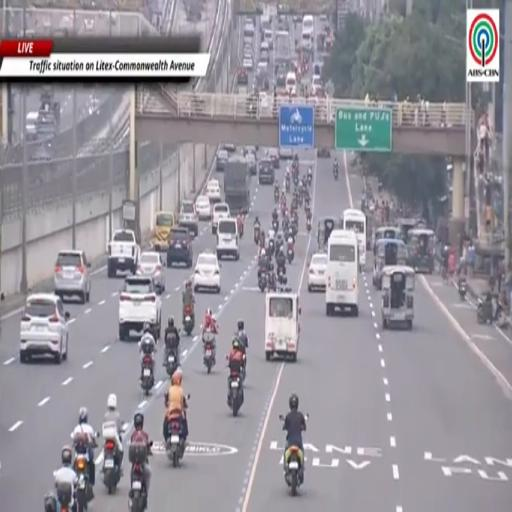bus: (325, 230, 359, 315), (342, 210, 366, 271)
car: (20, 294, 69, 363), (119, 276, 161, 341), (54, 250, 91, 303), (136, 251, 165, 294), (193, 252, 220, 293), (167, 228, 193, 267), (217, 218, 239, 260), (308, 253, 328, 292), (178, 200, 198, 237), (212, 203, 230, 234), (258, 159, 275, 184), (195, 196, 211, 220), (206, 180, 221, 203), (216, 149, 228, 171), (311, 75, 323, 95), (246, 153, 257, 174), (268, 149, 279, 168), (237, 68, 248, 85), (256, 61, 268, 76), (242, 56, 253, 72), (84, 16, 94, 33), (244, 21, 254, 38), (279, 148, 293, 159), (243, 146, 257, 156), (222, 143, 236, 153), (243, 43, 254, 55), (317, 148, 330, 157), (259, 52, 269, 63), (260, 41, 269, 53), (243, 36, 253, 45), (243, 53, 254, 60), (320, 14, 328, 22)
jeepney: (265, 288, 300, 361), (382, 266, 414, 329), (373, 238, 407, 289), (408, 229, 435, 274), (151, 212, 175, 251), (373, 227, 401, 255), (318, 217, 336, 251), (399, 218, 417, 242)
motorcycle: (74, 454, 93, 511), (102, 439, 121, 493), (284, 444, 303, 495), (166, 419, 185, 467), (129, 461, 147, 511), (44, 483, 76, 511), (228, 374, 244, 417), (141, 355, 154, 396), (203, 332, 215, 374), (477, 298, 492, 324), (165, 349, 178, 377), (183, 304, 194, 335), (459, 279, 467, 300), (258, 272, 266, 292), (237, 216, 244, 238), (267, 276, 276, 292), (277, 271, 287, 285), (287, 243, 294, 263), (277, 265, 285, 281), (282, 216, 290, 232), (268, 239, 275, 257), (254, 226, 260, 245), (304, 198, 311, 214), (291, 219, 297, 236), (274, 187, 279, 203), (298, 190, 303, 206), (272, 219, 278, 232), (285, 178, 290, 193), (306, 218, 311, 233), (333, 166, 338, 180), (293, 173, 298, 187), (307, 174, 312, 185)
truck: (107, 230, 140, 278), (224, 155, 250, 213)
